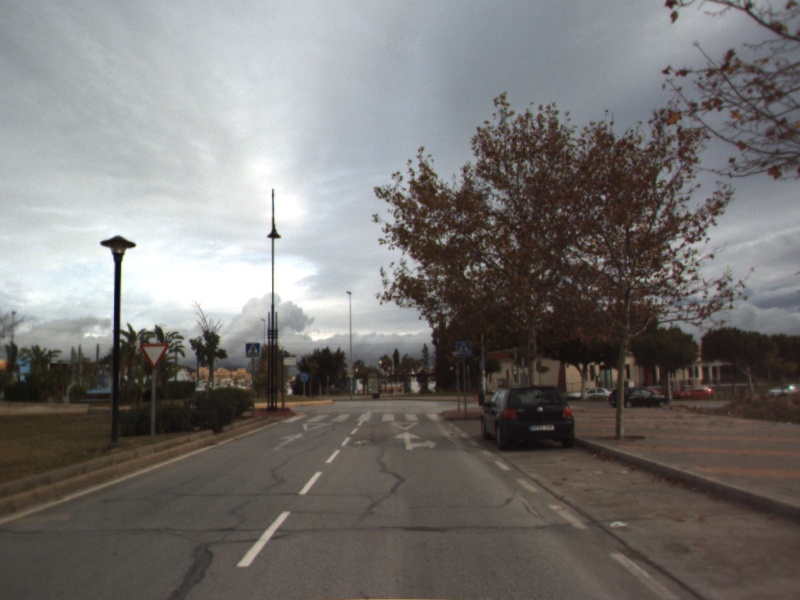STRAIGHT: (270, 430, 308, 453)
STRAIGHT_RIGHT: (392, 430, 439, 452)
